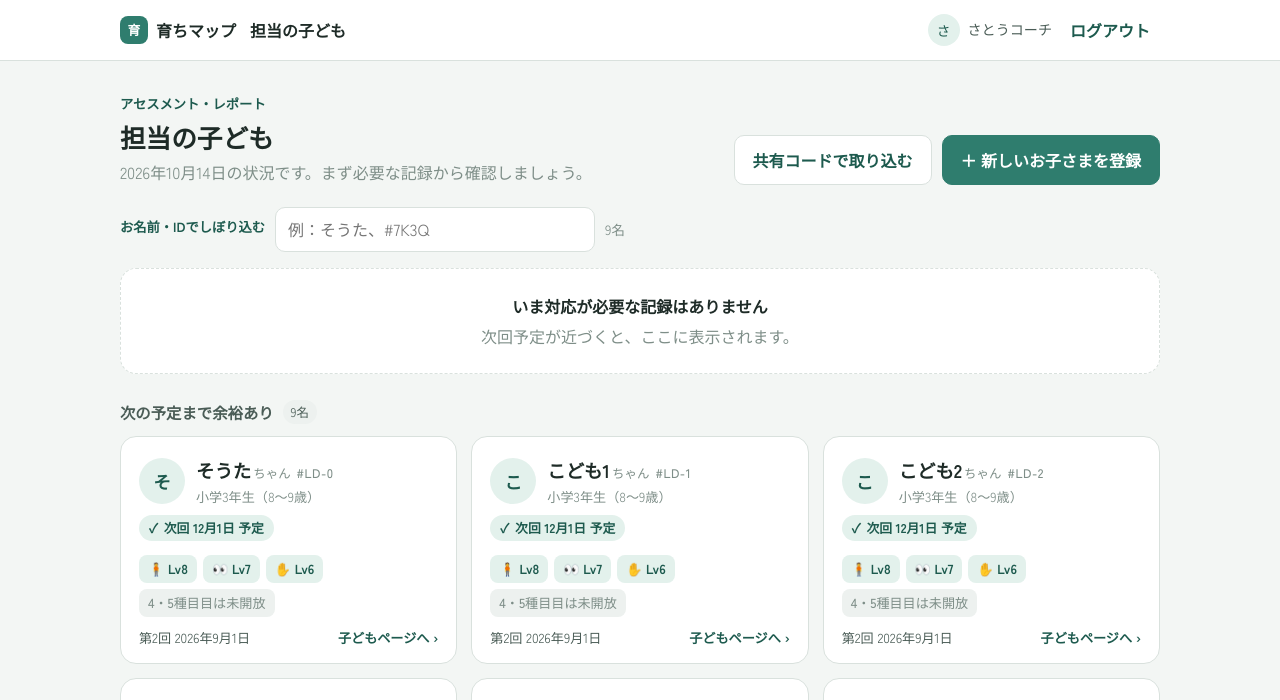
Test case: 担当の子ども一覧 › 担当が増えたらお名前でしぼり込める
The width and height of the screenshot is (1280, 700).
Type "そう" into the search field labelled "お名前・IDでしぼり込む" at (435, 229), box [275,207,595,252]
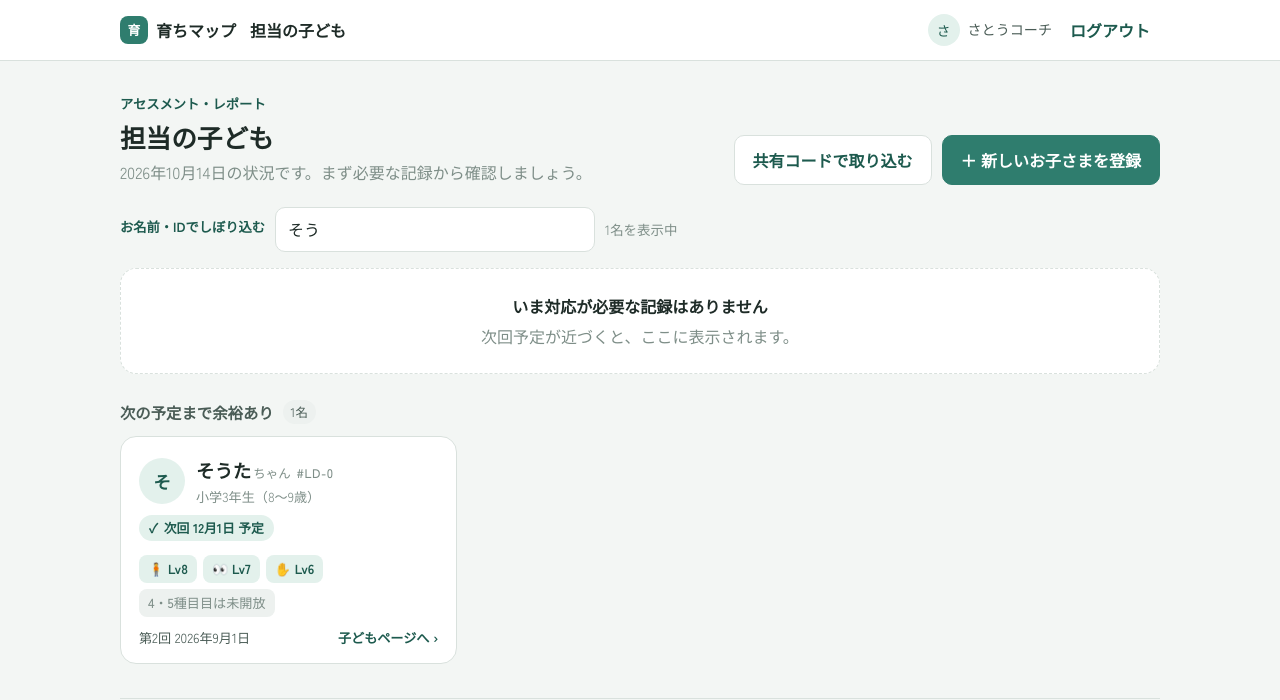
Expected: the link "そうた" is shown, [196,457,291,483]
Expected: the link "こども1" is gone
